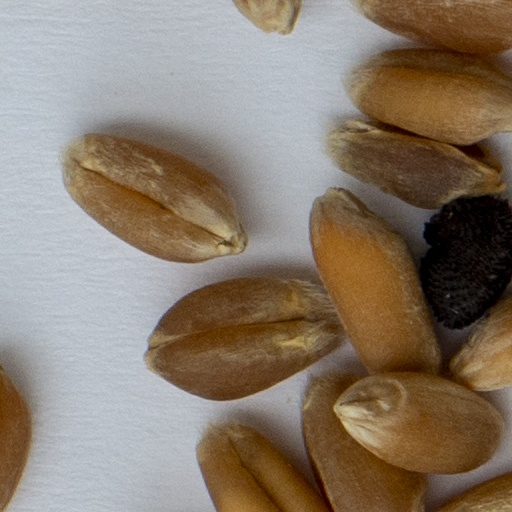Agrostemma-poly: (421, 195, 511, 328)
Wheat-grain-poly: (144, 276, 345, 400), (61, 131, 247, 263), (307, 187, 438, 374), (333, 371, 504, 478), (304, 371, 427, 511), (342, 45, 511, 142), (327, 118, 501, 207), (196, 418, 331, 511), (352, 0, 511, 50), (451, 292, 511, 389), (0, 362, 35, 511), (428, 470, 511, 511), (228, 0, 305, 37)
